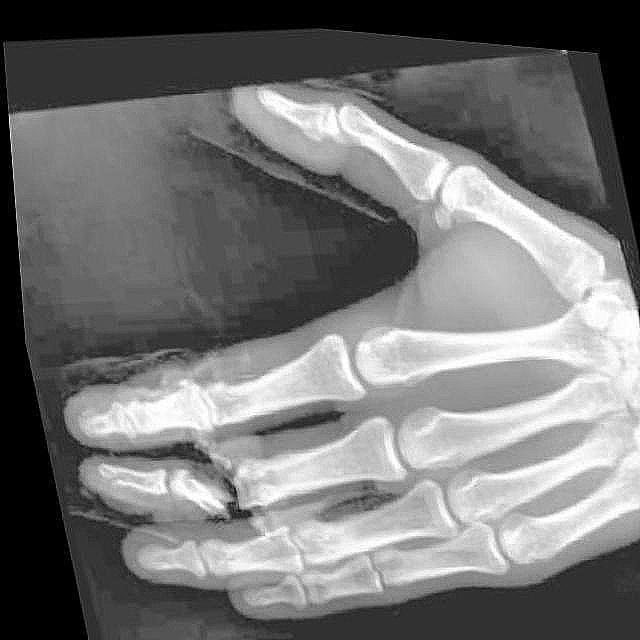bone: (159, 442, 257, 519), (83, 448, 144, 496)
